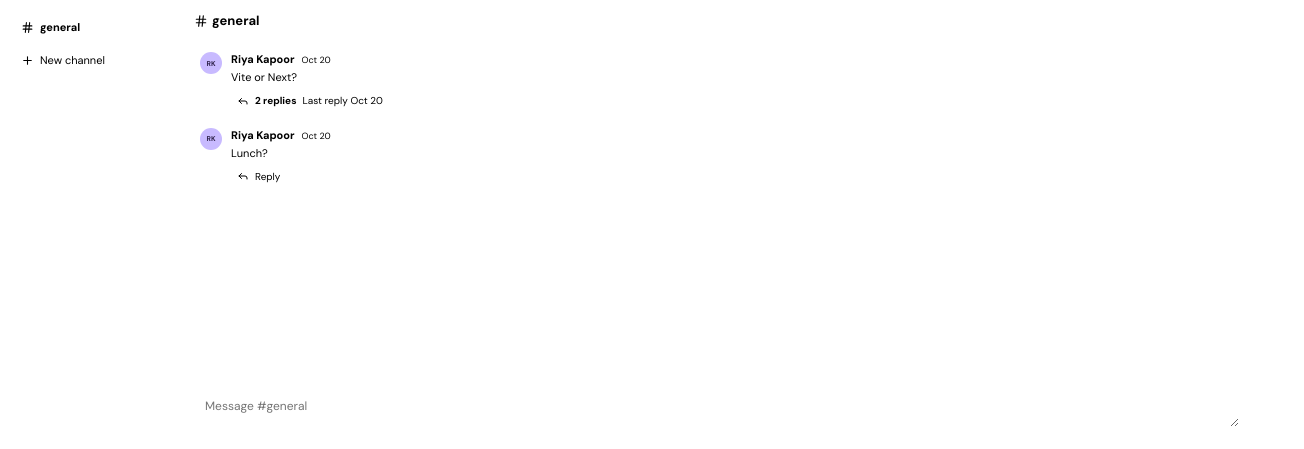
it: ChatPanel threads (US-17) › closing the thread hides it
Click the button with aria-label "2 replies, open thread" at (311, 100), box [231,90,391,111]
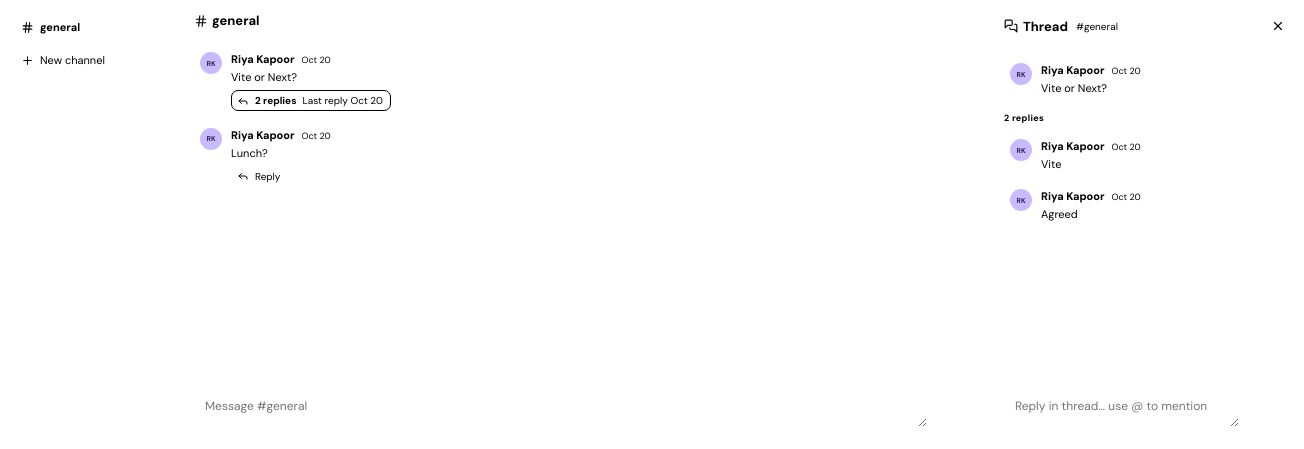
Check: the element "Thread" is shown, box [992,12,1292,432]
Click the button named "Close thread" at (1278, 26), box [1264,12,1292,40]
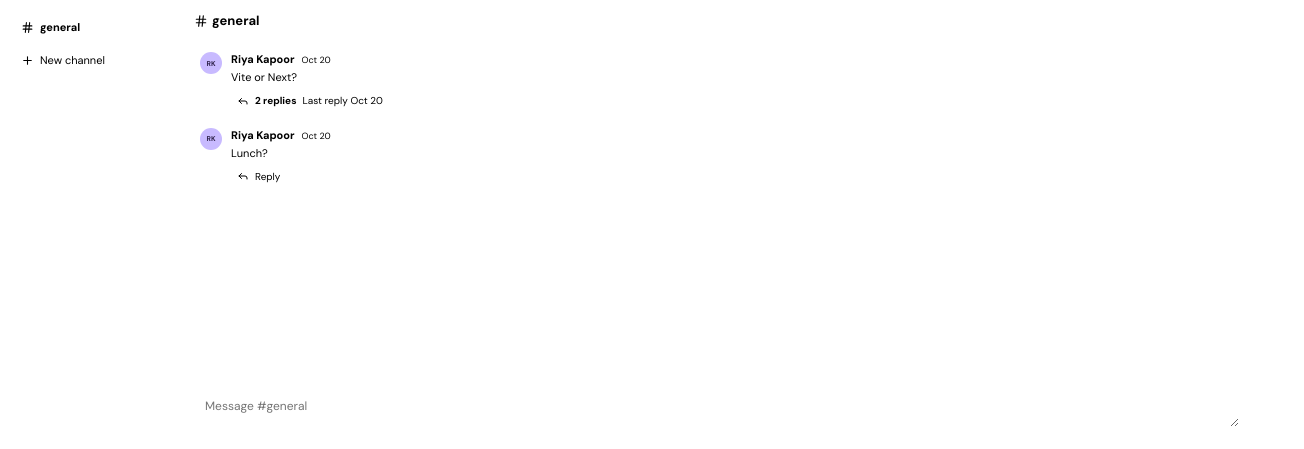
Check: the element "Thread" is gone
